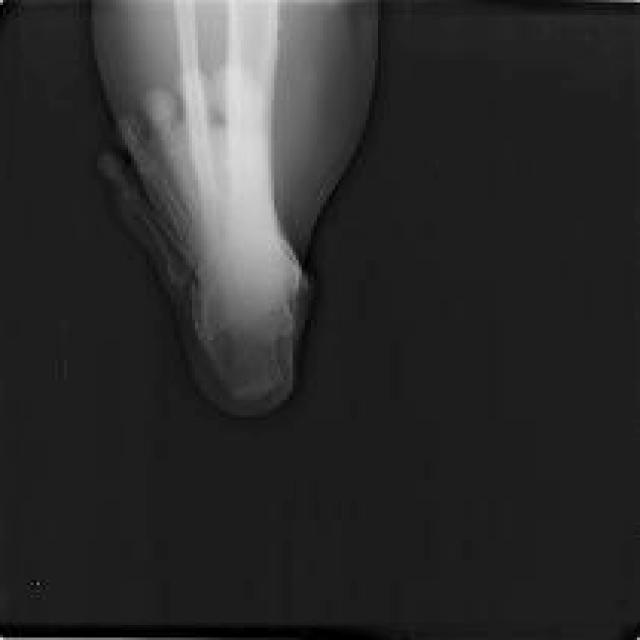normal: (103, 0, 296, 397)
